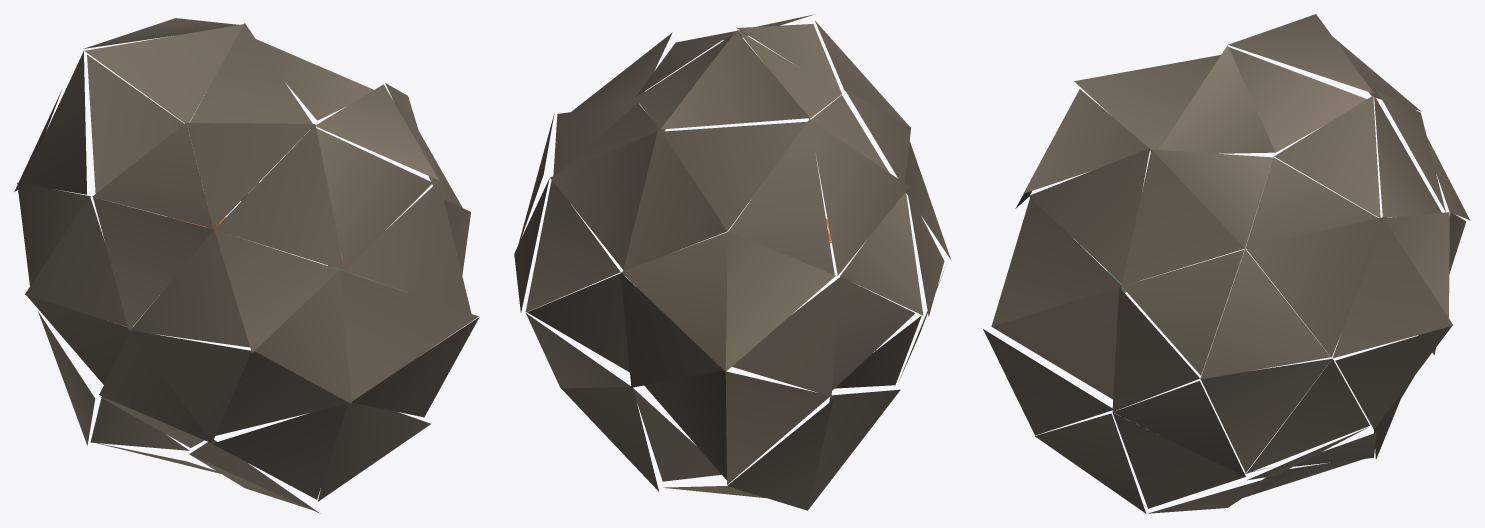
The model's file is mature-lod2.glb.
The picture shows the model from 3 angles, left to right: view 1: azimuth 30°, elevation 25°; view 2: azimuth 150°, elevation 25°; view 3: azimuth 270°, elevation 25°; orthographic projection.
Visible parts, largest first — view 1: copper-host-rock; view 2: copper-host-rock; view 3: copper-host-rock.
Part boxes in pixels (left/top/right/bottom): copper-host-rock: left=14, top=18, right=479, bottom=513; copper-host-rock: left=514, top=14, right=951, bottom=510; copper-host-rock: left=983, top=14, right=1469, bottom=513.
Size of the model in its own units: 3.54 by 3.74 by 3.52.
